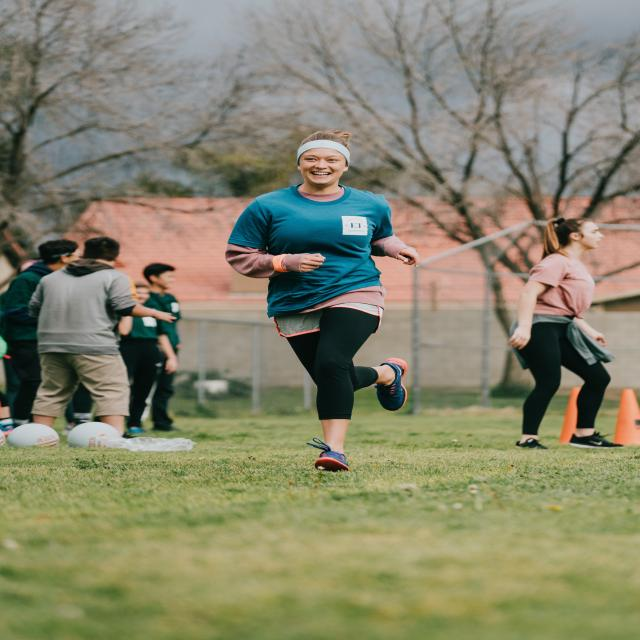running: (221, 128, 425, 472)
